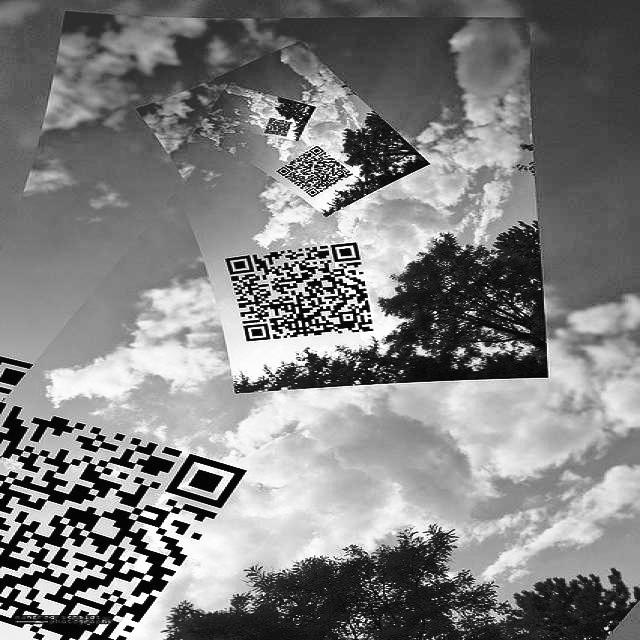qr_code: (0, 401, 246, 639), (224, 242, 372, 341), (276, 145, 353, 196), (265, 117, 292, 136)
